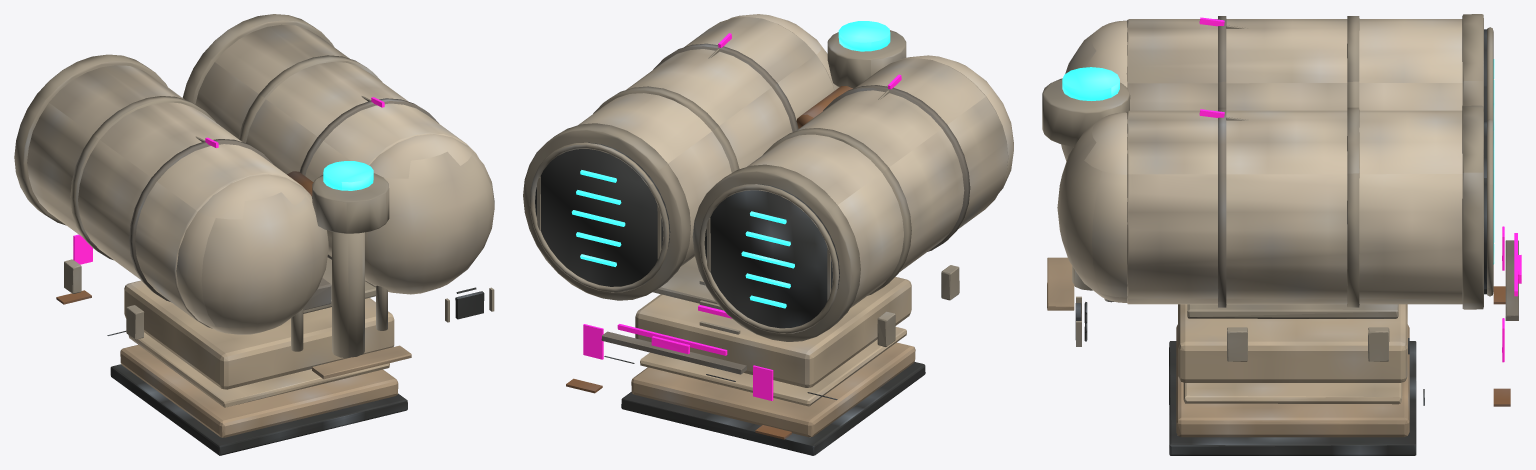
The model's file is windtrap.glb.
The picture shows the model from 3 angles, left to right: view 1: azimuth 30°, elevation 25°; view 2: azimuth 150°, elevation 25°; view 3: azimuth 270°, elevation 25°; orthographic projection. The views are drawn at different scales.
Parts seen in each view (by area): view 1: Sandwar3D; view 2: Sandwar3D; view 3: Sandwar3D.
Part boxes in pixels (x1,y1,x2,y2): Sandwar3D: (14, 14, 494, 455); Sandwar3D: (523, 14, 1013, 455); Sandwar3D: (1042, 14, 1521, 455).
Size of the model in its own units: 1.67 by 1.49 by 1.9.
Materials: 10 (9 with a texture image).
